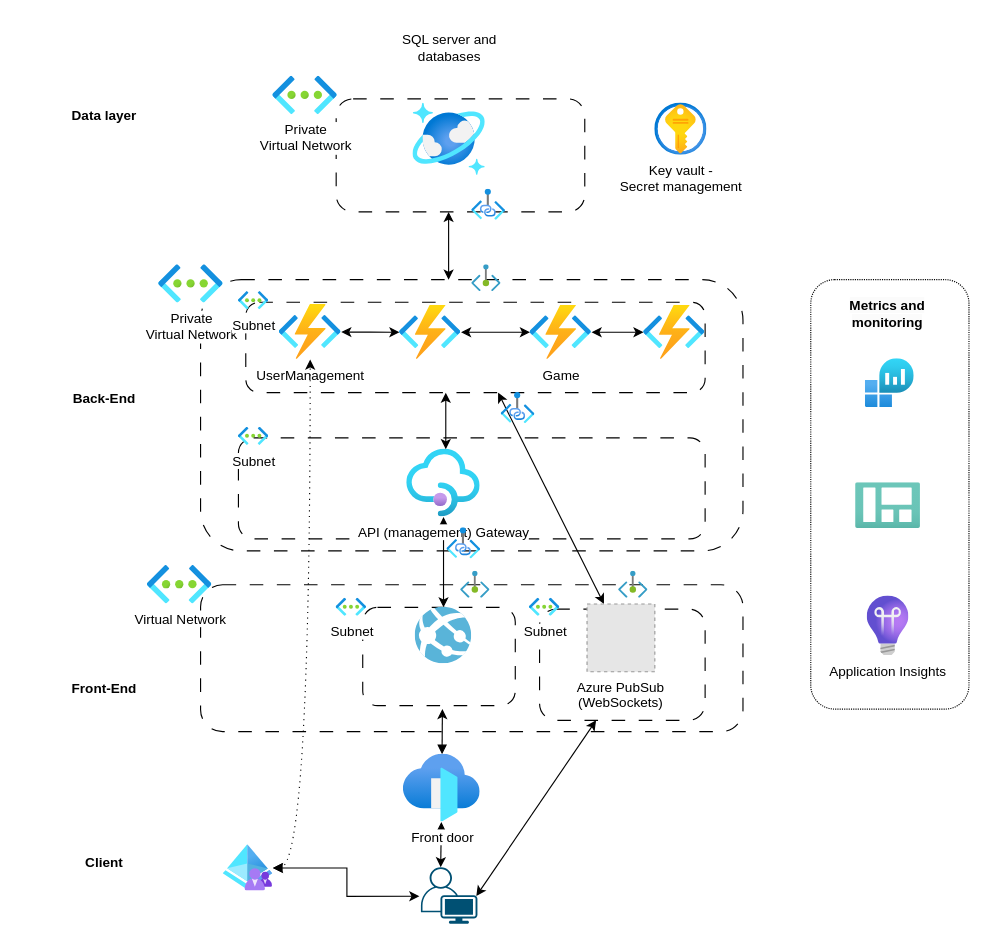
Some shapes in this 989 by 950 pixel diagram are drawn without their labels. Grey dashed boxes stand in for pictures. The shapes that lost their labels are listed below. From the top down, each one's box as (x1, y1, x2, y2) in pixels, then its label:
(412, 103, 485, 175): CosmosDb
(399, 305, 460, 359): SessionManagement
(643, 305, 705, 359): MatchMaking
(865, 358, 914, 407): Log analytics
(855, 482, 920, 528): Dashboarding
(415, 607, 471, 663): App service Frontend Webapp
(223, 844, 272, 890): Azure B2C For federated authentication
